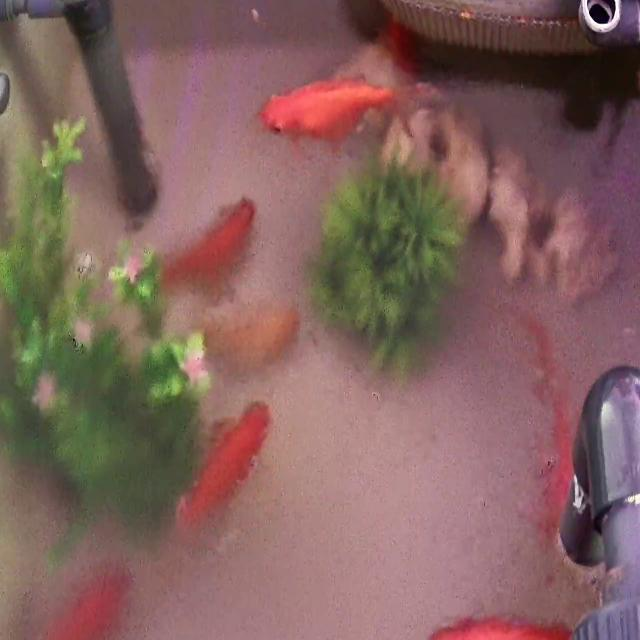fish: (178, 399, 274, 530), (11, 562, 135, 640), (160, 196, 258, 290), (520, 312, 570, 490), (262, 76, 377, 144), (200, 303, 298, 372), (422, 614, 570, 640), (380, 16, 422, 74)
